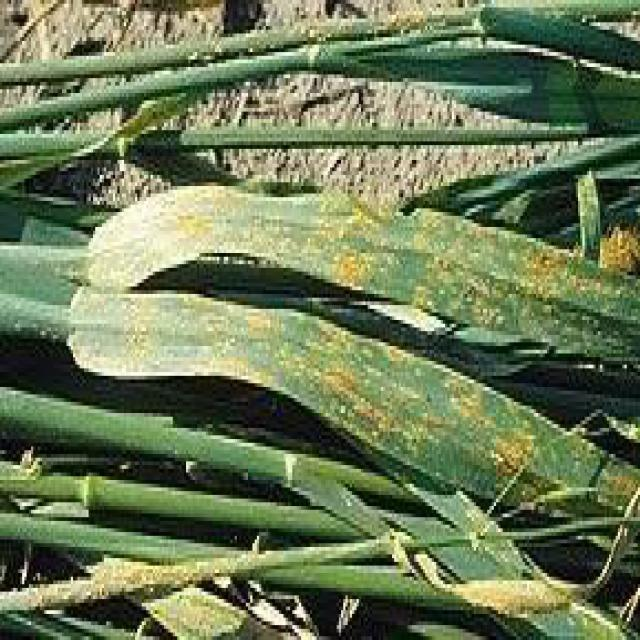wheat-stemrust: (66, 287, 600, 502), (86, 186, 640, 361)
